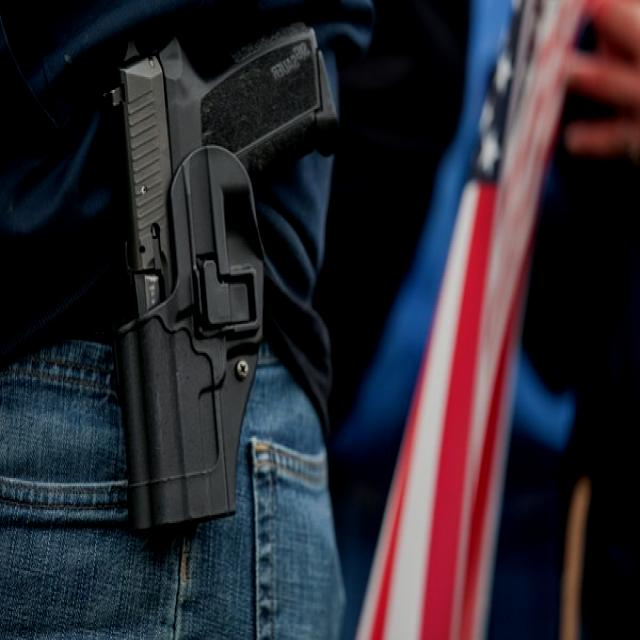pistol: (90, 18, 344, 553)
